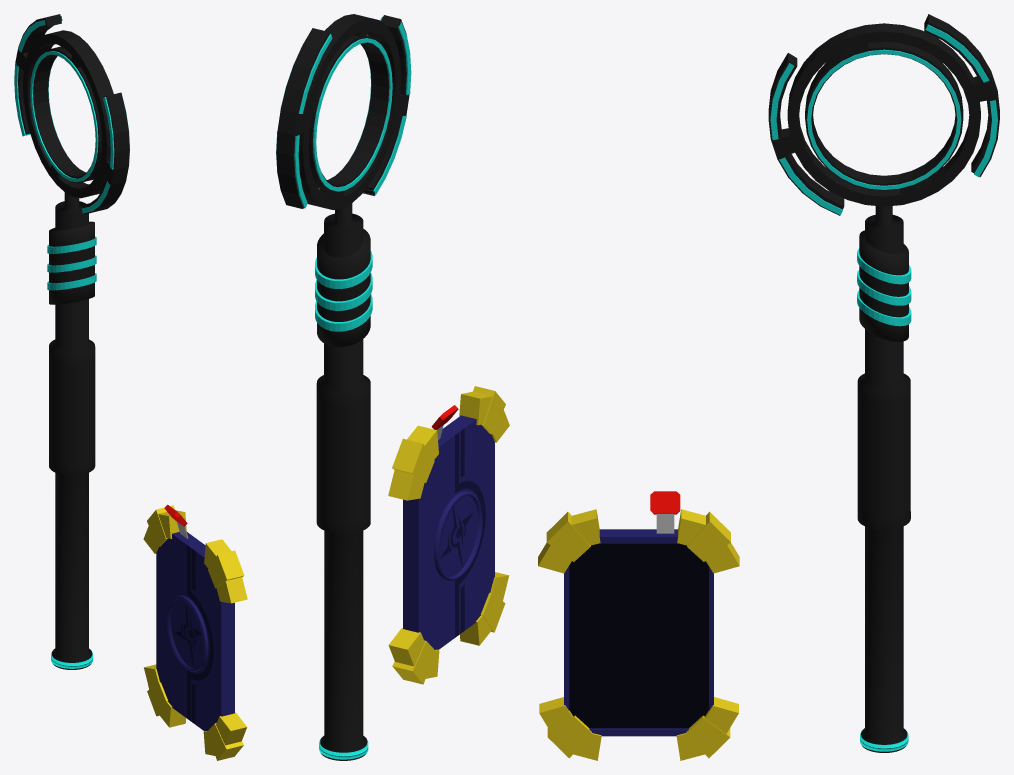
Rendered from маг.fbx.
The picture shows the model from 3 angles, left to right: view 1: azimuth 30°, elevation 25°; view 2: azimuth 150°, elevation 25°; view 3: azimuth 270°, elevation 25°; orthographic projection. The views are drawn at different scales.
Parts seen in each view (by area): view 1: Цилиндр.009, Cube, Цилиндр.002, Цилиндр.003, Цилиндр.008, Цилиндр.007, Куб.002, Цилиндр, Куб.011, Куб.013, Куб.004, Куб.007 (+4 smaller); view 2: Цилиндр.009, Cube, Цилиндр.002, Цилиндр.003, Цилиндр.007, Цилиндр.008, Куб.007, Цилиндр, Куб.010, Куб.008, Куб.005, Куб.003 (+8 smaller); view 3: Куб.014, Цилиндр.009, Цилиндр.002, Cube, Цилиндр.003, Цилиндр.007, Цилиндр.008, Куб.002, Куб.007, Куб.008, Куб.013, Куб.010 (+1 smaller).
Part boxes in pixels (x1,y1,x2,y2): Цилиндр.009: (49, 192, 95, 669); Cube: (156, 532, 234, 731); Цилиндр.002: (15, 14, 129, 214); Цилиндр.003: (49, 221, 94, 304); Цилиндр.008: (30, 51, 98, 182); Цилиндр.007: (14, 16, 129, 213); Куб.002: (208, 550, 244, 588); Цилиндр: (166, 595, 208, 671); Куб.011: (216, 712, 246, 745); Куб.013: (207, 723, 243, 760); Куб.004: (216, 577, 247, 603); Куб.007: (147, 505, 174, 546); Цилиндр.009: (316, 203, 370, 760); Cube: (403, 415, 494, 649); Цилиндр.002: (276, 14, 409, 209); Цилиндр.003: (317, 229, 370, 346); Цилиндр.007: (276, 17, 411, 208); Цилиндр.008: (313, 38, 392, 191); Куб.007: (392, 438, 434, 482); Цилиндр: (434, 491, 482, 580); Куб.010: (388, 628, 424, 666); Куб.008: (392, 640, 434, 684); Куб.005: (388, 470, 424, 500); Куб.003: (459, 391, 492, 425); Куб.014: (569, 543, 708, 728); Цилиндр.009: (857, 206, 910, 752); Цилиндр.002: (768, 14, 999, 215); Cube: (564, 529, 713, 736); Цилиндр.003: (859, 230, 908, 341); Цилиндр.007: (770, 24, 997, 215); Цилиндр.008: (807, 49, 961, 189); Куб.002: (546, 512, 590, 561); Куб.007: (687, 511, 730, 561); Куб.008: (686, 715, 730, 758); Куб.013: (547, 715, 591, 758); Куб.010: (704, 697, 738, 733).
Size of the model in its own units: 83.57 by 1073 by 616.
